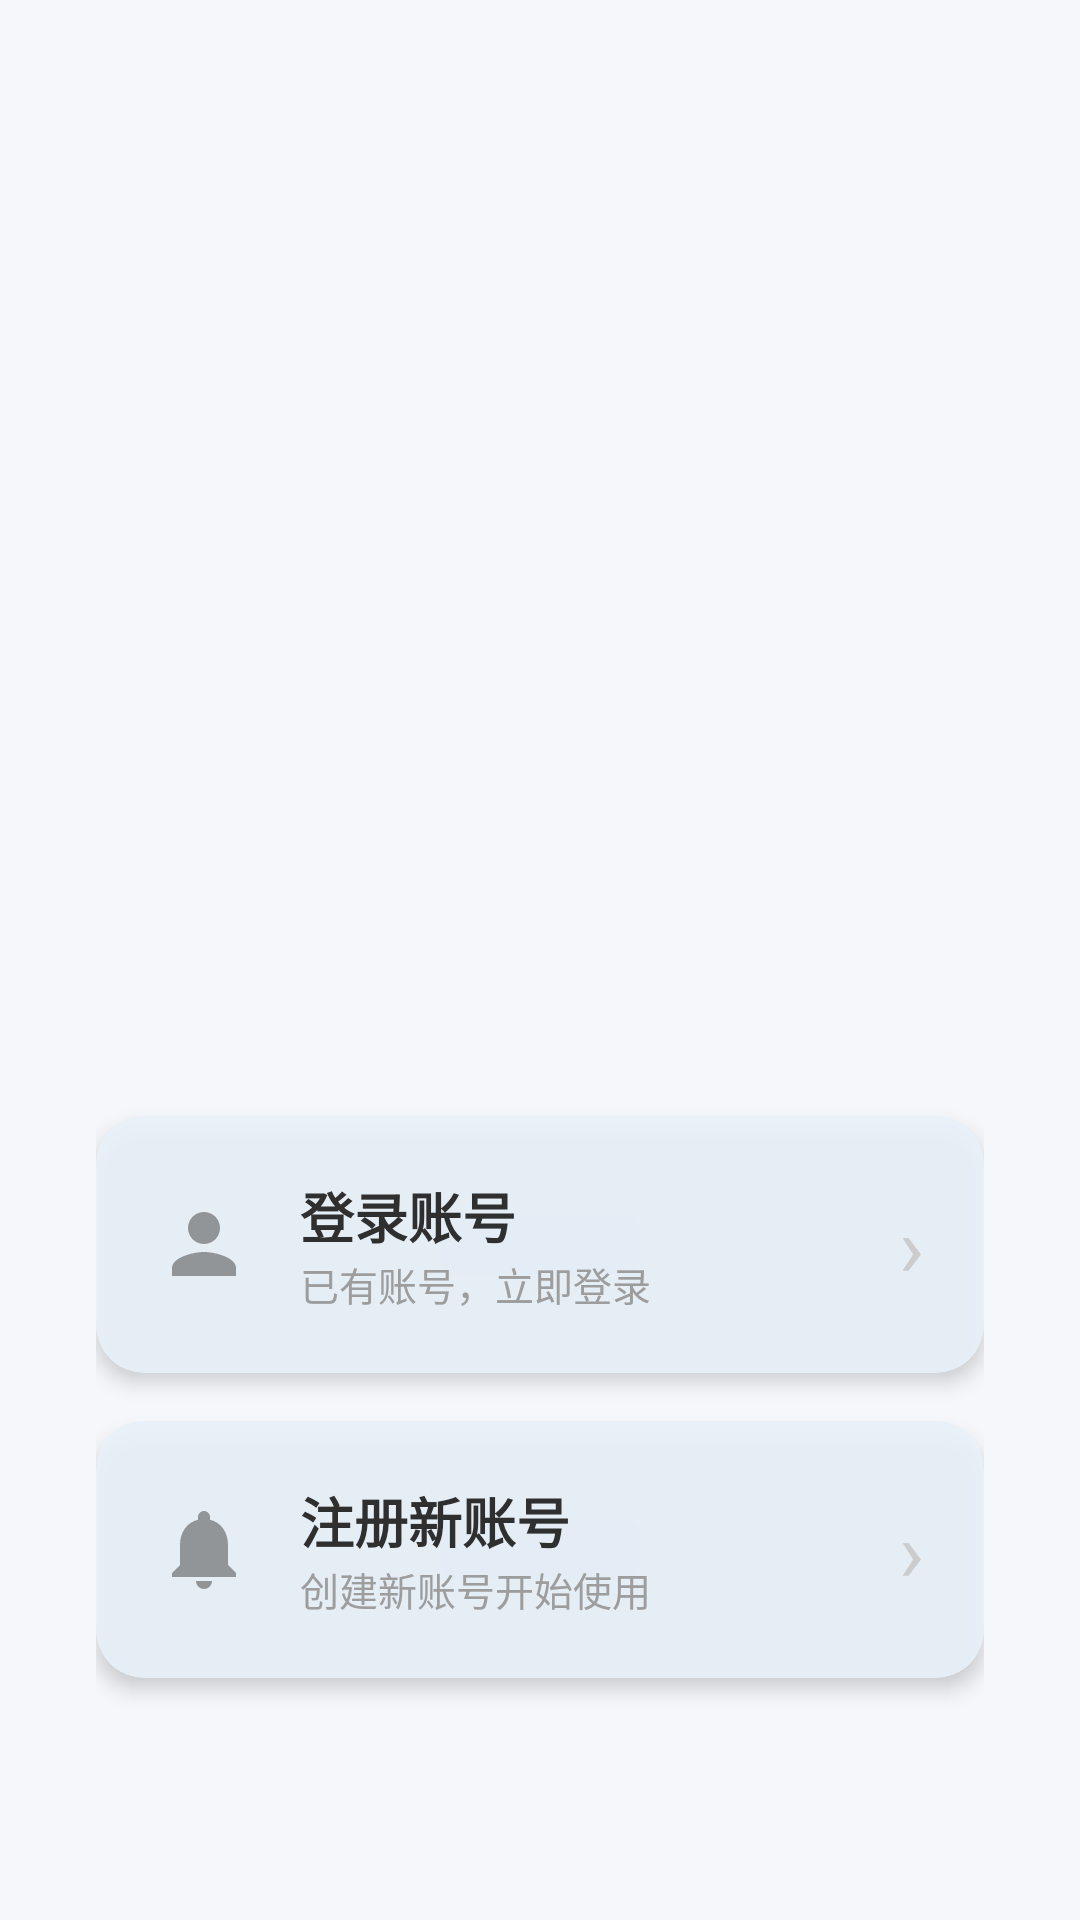

Where icons sit on this 1080x1920 app screen, as (x1, y1, x2, y2):
bell: (172, 1511, 236, 1589)
person: (172, 1212, 236, 1276)
